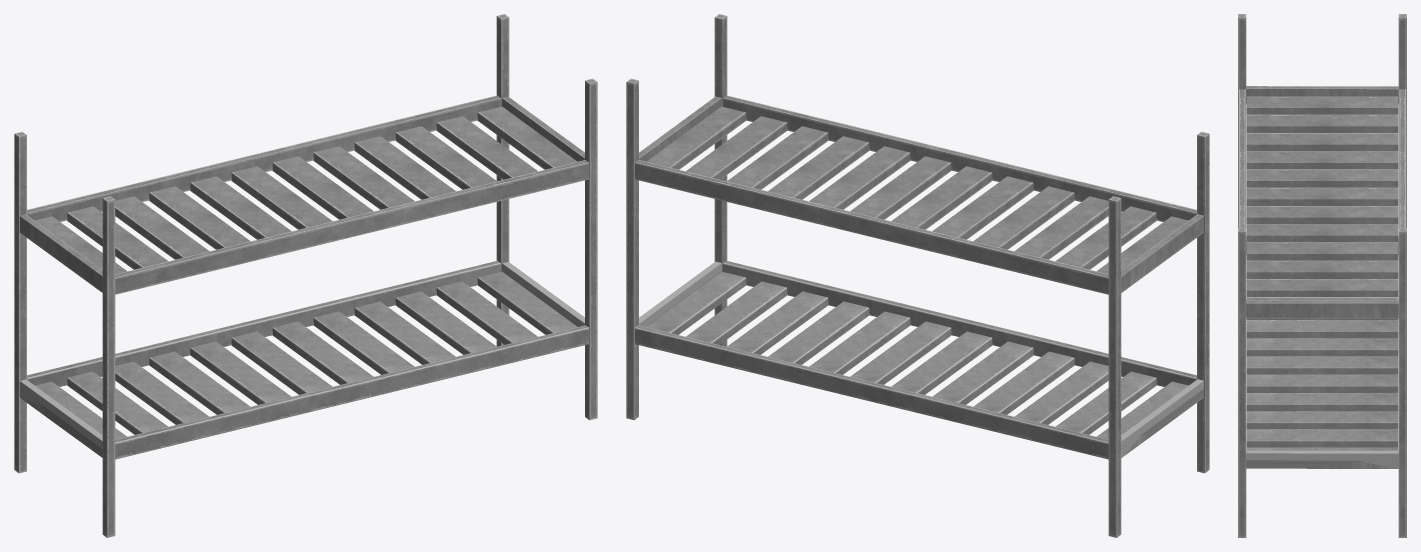
File: Shelves.glb
The picture shows the model from 3 angles, left to right: view 1: azimuth 30°, elevation 25°; view 2: azimuth 150°, elevation 25°; view 3: azimuth 270°, elevation 25°; orthographic projection. The views are drawn at different scales.
Visible parts, largest first — view 1: Cube.024, Cube.019, Cube.023, Cube.020, Cube.018, Cube.021, Cube.022; view 2: Cube.024, Cube.019, Cube.023, Cube.020, Cube.018, Cube.021, Cube.022; view 3: Cube.024, Cube.019, Cube.018, Cube.022, Cube.021, Cube.023.
Part boxes in pixels (x1,y1,x2,y2): Cube.024: (35,106,577,274); Cube.019: (35,271,577,439); Cube.023: (27,95,588,294); Cube.020: (27,260,588,459); Cube.018: (14,14,597,537); Cube.021: (20,262,584,457); Cube.022: (20,96,584,292); Cube.024: (646,106,1188,274); Cube.019: (646,271,1188,439); Cube.023: (635,95,1196,294); Cube.020: (635,260,1196,459); Cube.018: (626,14,1209,537); Cube.021: (639,261,1203,457); Cube.022: (639,96,1203,292); Cube.024: (1246,96,1398,300); Cube.019: (1246,318,1398,450); Cube.018: (1238,14,1406,537); Cube.022: (1246,86,1398,318); Cube.021: (1246,236,1398,468); Cube.023: (1239,89,1405,228).
Size of the model in its own units: 6.1 by 4 by 2.
Materials: 1 (1 with a texture image).
